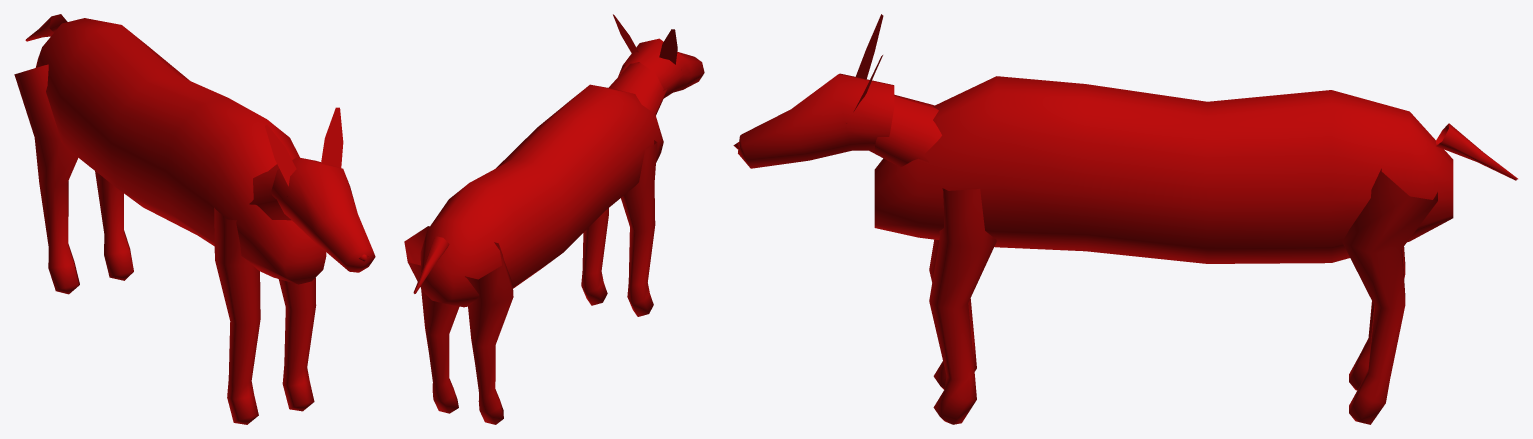
Rendered from lynx.glb.
3 views of the same model, side by side, from view 1: azimuth 30°, elevation 25°; view 2: azimuth 150°, elevation 25°; view 3: azimuth 270°, elevation 25° (orthographic). The views are drawn at different scales.
Parts seen in each view (by area): view 1: body, head, leg_lh, leg_lf, leg_rf, leg_rh, tail; view 2: body, head, leg_lh, leg_lf, leg_rh, leg_rf, tail; view 3: body, head, leg_rh, leg_rf, tail, leg_lh.
Part boxes in pixels (left/top/right/bottom): body: left=35, top=18, right=326, bottom=284; head: left=249, top=107, right=375, bottom=272; leg_lh: left=14, top=64, right=79, bottom=294; leg_lf: left=214, top=207, right=260, bottom=424; leg_rf: left=278, top=277, right=316, bottom=411; leg_rh: left=95, top=171, right=133, bottom=280; tail: left=25, top=14, right=67, bottom=41; body: left=420, top=84, right=663, bottom=307; head: left=608, top=14, right=704, bottom=118; leg_lh: left=465, top=242, right=513, bottom=424; leg_lf: left=621, top=140, right=657, bottom=316; leg_rh: left=404, top=226, right=459, bottom=413; leg_rf: left=581, top=208, right=608, bottom=305; tail: left=413, top=236, right=449, bottom=293; body: left=874, top=76, right=1453, bottom=263; head: left=733, top=14, right=941, bottom=168; leg_rh: left=1342, top=168, right=1437, bottom=424; leg_rf: left=929, top=188, right=996, bottom=424; tail: left=1436, top=123, right=1517, bottom=180; leg_lh: left=1349, top=247, right=1405, bottom=390.
Bounding box in the file's own units: 0.2812 × 0.7383 × 1.41.
